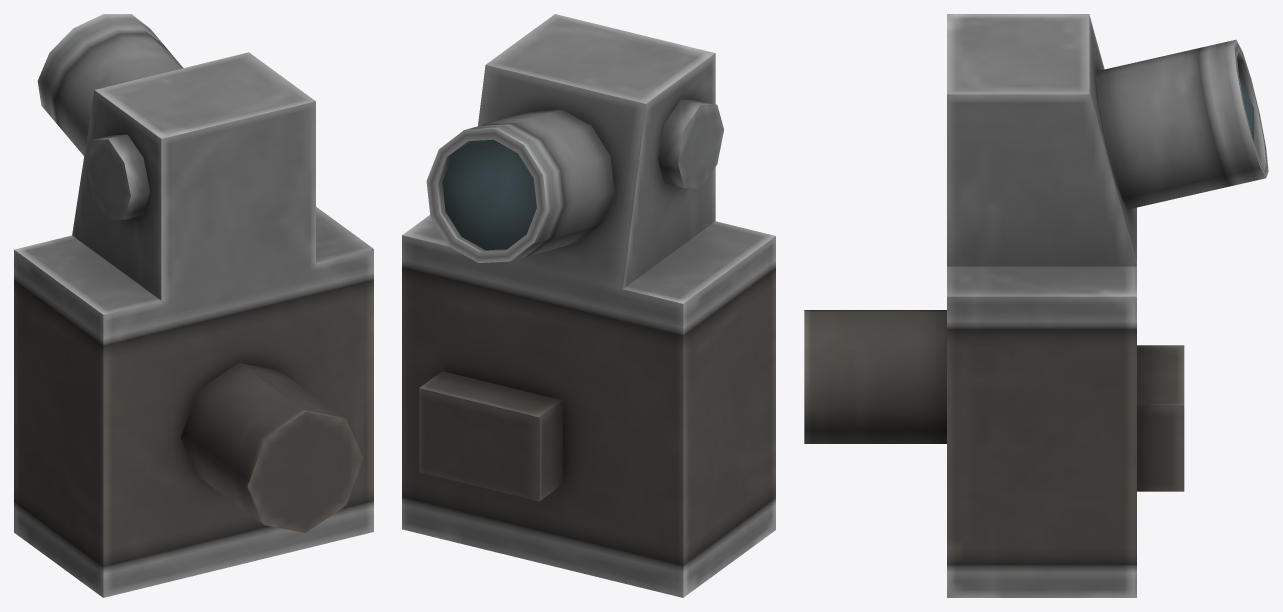
File: grus_sensor_visible_light_camera_srf_1.obj
3 renders of one model, left to right at view 1: azimuth 30°, elevation 25°; view 2: azimuth 150°, elevation 25°; view 3: azimuth 270°, elevation 25°, orthographic. The views are drawn at different scales.
Parts seen in each view (by area): view 1: 2; view 2: 2, g2; view 3: 2.
Part boxes in pixels (box(x1,y1,x2,y2)): 2: box(14, 14, 373, 597); 2: box(402, 14, 775, 597); g2: box(442, 139, 536, 250); 2: box(804, 14, 1268, 597).
Bounding box in the file's own units: 0.175 × 0.2796 × 0.2444.
2 materials, 2 textured.
